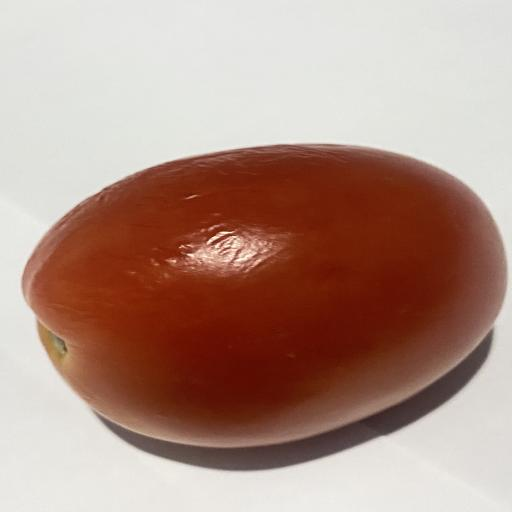spoiled: (23, 144, 506, 447)
